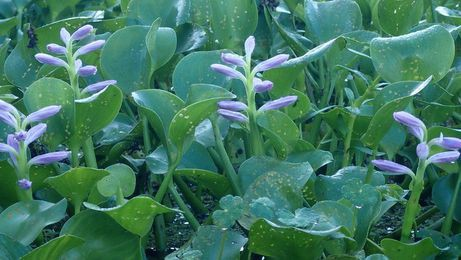water_hyacinth: (1, 0, 461, 260)
